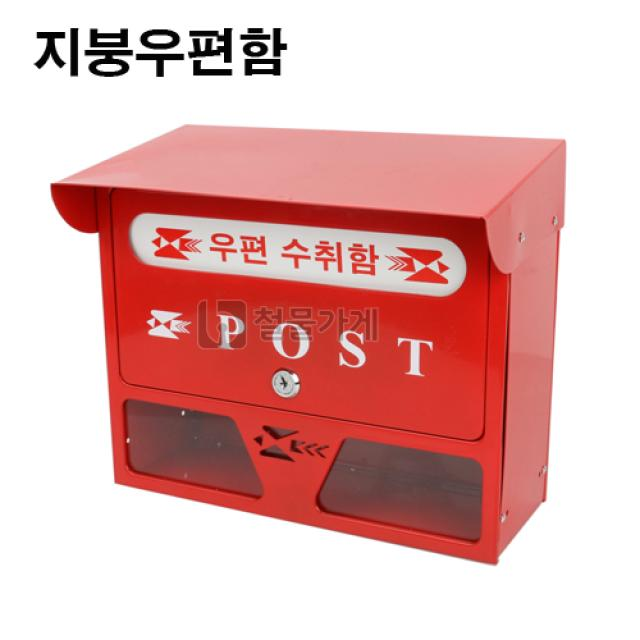Post Box: (51, 116, 572, 570)
